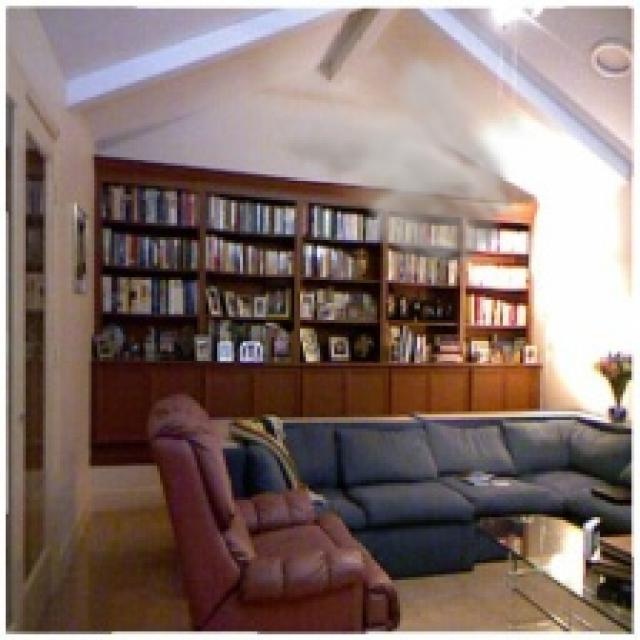smoke: (274, 43, 537, 286)
